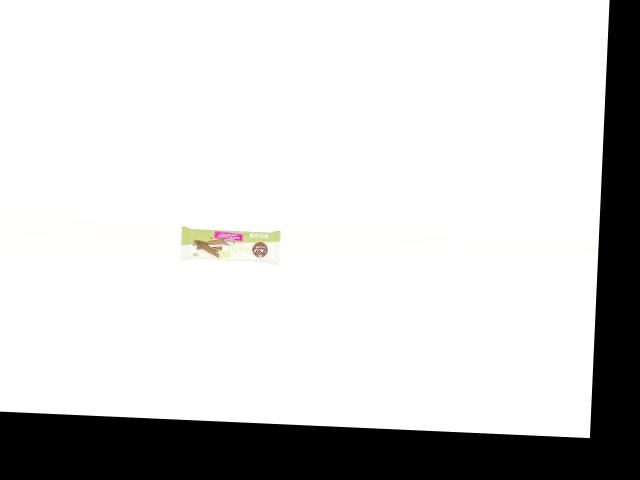chocolate: (178, 222, 280, 267)
